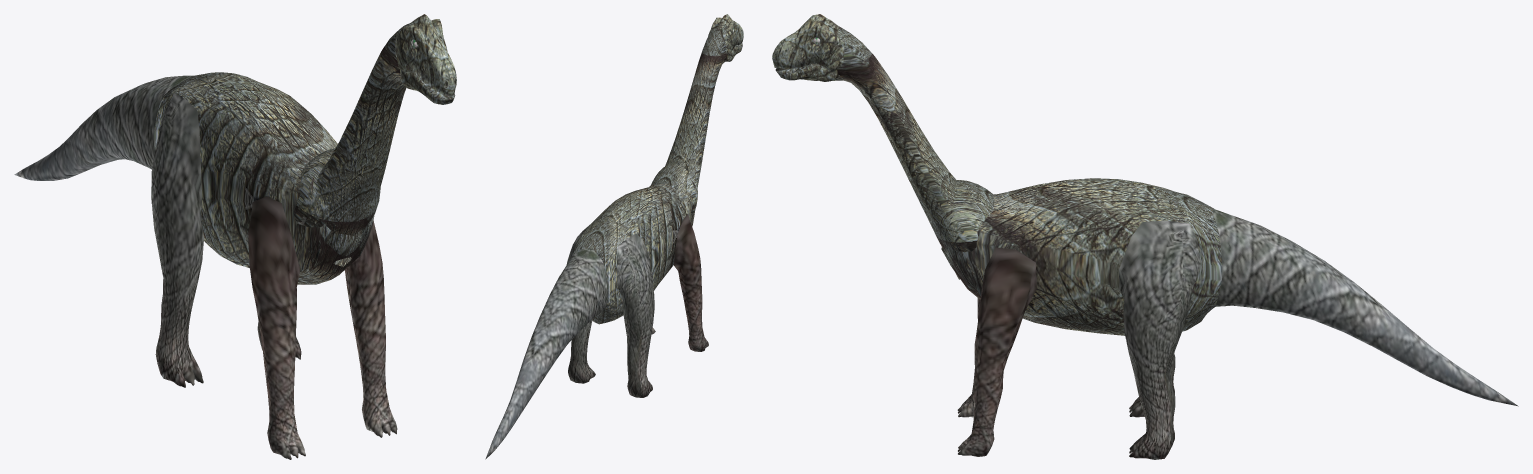
File: bronto.obj
3 renders of one model, left to right at view 1: azimuth 30°, elevation 25°; view 2: azimuth 150°, elevation 25°; view 3: azimuth 270°, elevation 25°, orthographic. The views are drawn at different scales.
Parts seen in each view (by area): view 1: Torso, PiernaTD, Cuello, PiernaDD, Cola, PiernaDI, Cabeza; view 2: Torso, Cola, Cuello, PiernaTD, PiernaDD, PiernaTI, Cabeza; view 3: Torso, Cola, PiernaTI, Cuello, PiernaDI, Cabeza.
Part boxes in pixels (x1,y1,x2,y2): Torso: [154, 72, 374, 284]; PiernaTD: [151, 94, 203, 387]; Cuello: [293, 22, 414, 266]; PiernaDD: [248, 196, 305, 459]; Cola: [14, 75, 193, 180]; PiernaDI: [344, 221, 397, 437]; Cabeza: [395, 14, 456, 104]; Torso: [572, 180, 696, 324]; Cola: [485, 248, 607, 459]; Cuello: [651, 23, 727, 215]; PiernaTD: [617, 233, 654, 397]; PiernaDD: [673, 214, 708, 351]; PiernaTI: [566, 229, 595, 383]; Cabeza: [708, 14, 743, 63]; Torso: [941, 178, 1222, 335]; Cola: [1212, 209, 1518, 406]; PiernaTI: [1119, 220, 1200, 459]; Cuello: [828, 25, 994, 279]; PiernaDI: [958, 247, 1036, 456]; Cabeza: [772, 14, 844, 81].
Size of the model in its own units: 1.83 by 6.33 by 10.2.
Materials: 5 (5 with a texture image).
